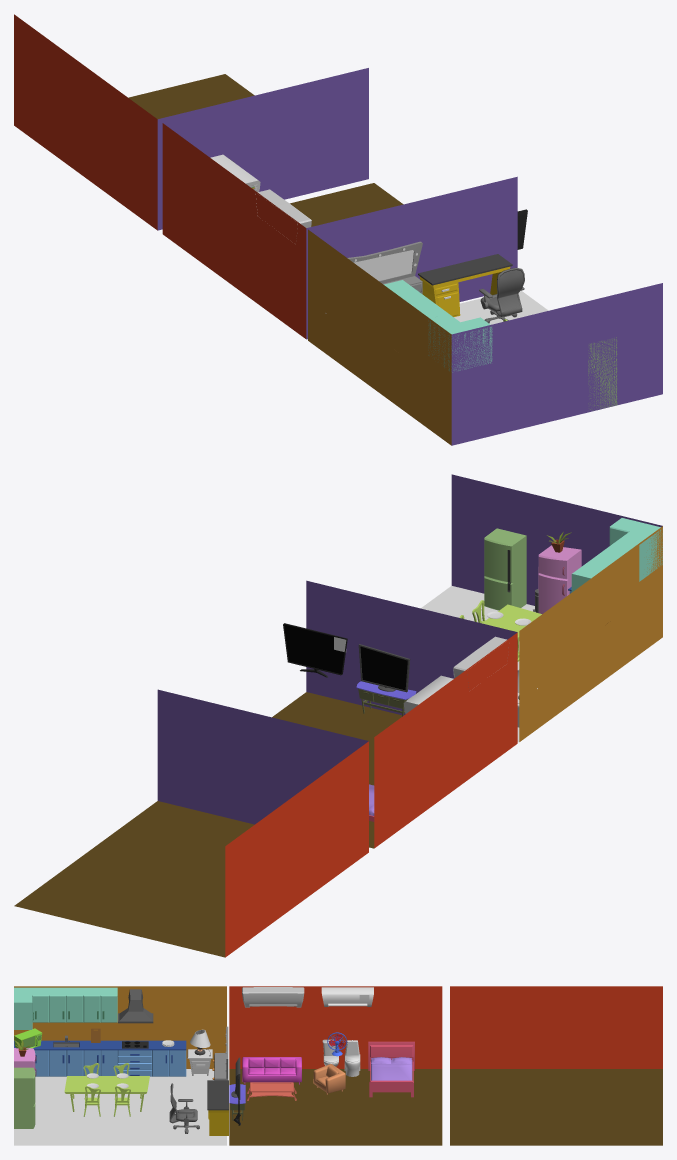
The model's file is CenaSustentavel.fbx.
3 views of the same model, one above another, from view 1: azimuth 30°, elevation 25°; view 2: azimuth 150°, elevation 25°; view 3: azimuth 270°, elevation 25° (orthographic). The views are drawn at different scales.
Visible parts, largest first — view 1: Plane, Plane.003, Plane.001, Cube.043_Cube.025, Cube.042_Cube.022, Cube.017_Cube.006, Cube.044_Cube.026, Cube.010_Cube.002, Cube.034_Cube.005; view 2: Plane.003, Plane.001, Plane, Cube.010_Cube.002, Plane.002, Cube.005_Cube.008, Cube.036_Cube.017, Cube.017_Cube.006, Cube.031_Cube.035, Cube.011; view 3: Plane.003, Plane.001, Plane, Cube.032_Cube.029, Cube.028_Cube.009, Cube.017_Cube.006, Cube.011, Cube.010_Cube.002, Cube.026_Cube.051, Cube.006_Cube.012, Cube_Cube.001, Cube.034_Cube.005 (+22 smaller).
Part boxes in pixels (x1,y1,x2,y2): Plane: (308, 229, 662, 445); Plane.003: (14, 14, 368, 230); Plane.001: (162, 123, 517, 339); Cube.043_Cube.025: (418, 254, 512, 316); Cube.042_Cube.022: (347, 241, 422, 293); Cube.017_Cube.006: (428, 314, 492, 372); Cube.044_Cube.026: (479, 267, 524, 323); Cube.010_Cube.002: (588, 337, 617, 410); Cube.034_Cube.005: (255, 189, 311, 233); Plane.003: (14, 689, 368, 957); Plane.001: (272, 580, 517, 848); Plane: (421, 474, 662, 742); Cube.010_Cube.002: (484, 528, 526, 610); Plane.002: (283, 623, 347, 677); Cube.005_Cube.008: (538, 545, 581, 613); Cube.036_Cube.017: (358, 644, 410, 692); Cube.017_Cube.006: (609, 518, 662, 581); Cube.031_Cube.035: (356, 681, 416, 716); Cube.011: (482, 604, 541, 640); Plane.003: (450, 986, 662, 1145); Plane.001: (229, 986, 442, 1145); Plane: (14, 986, 226, 1145); Cube.032_Cube.029: (368, 1041, 414, 1097); Cube.028_Cube.009: (242, 1057, 301, 1084); Cube.017_Cube.006: (14, 987, 49, 1029); Cube.011: (64, 1076, 149, 1111); Cube.010_Cube.002: (14, 1067, 35, 1128); Cube.026_Cube.051: (49, 1035, 83, 1076); Cube.006_Cube.012: (83, 987, 117, 1022); Cube_Cube.001: (49, 987, 83, 1022); Cube.034_Cube.005: (242, 987, 304, 1007).
Size of the model in its own units: 1907 by 891 by 6332.
